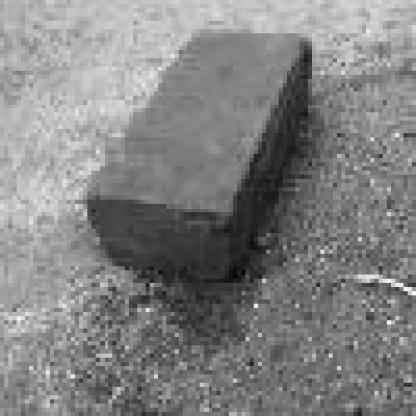brick: (86, 31, 312, 284)
